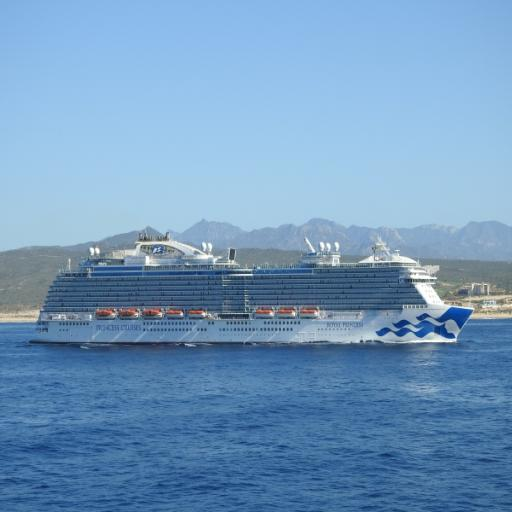cruises: (34, 234, 482, 348)
